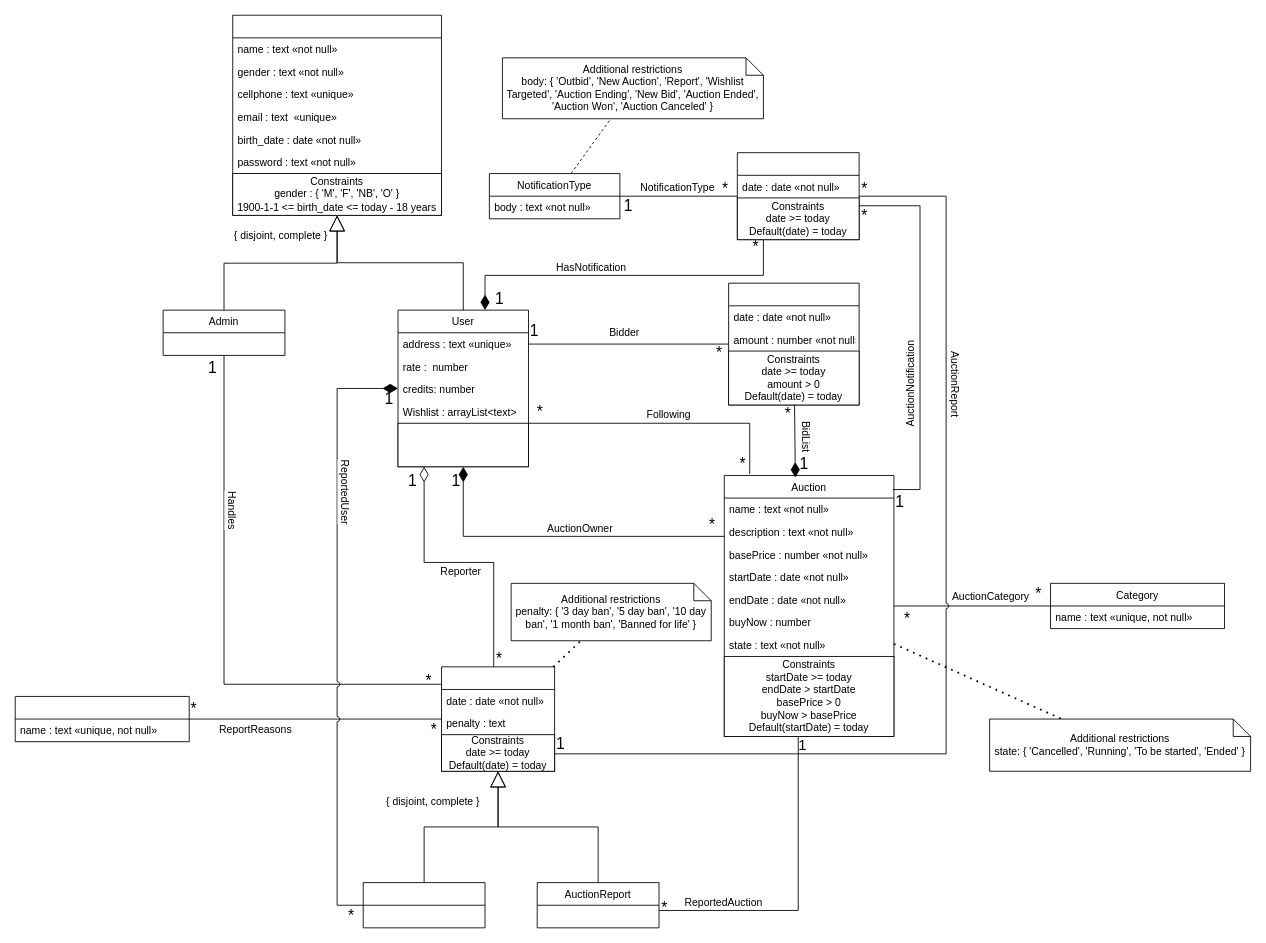
This 1266x943 diagram has some shape labels left out. Each missing label, with the box of its shape:
Bid: (728, 282, 859, 405)
Constraints 0 <= rate <= 5 credits >= 0: (397, 422, 529, 467)
GeneralUser: (232, 14, 442, 215)
Notification: (736, 152, 859, 240)
Report: (441, 666, 555, 771)
ReportOption: (14, 696, 189, 742)
UserReport: (362, 882, 485, 928)
